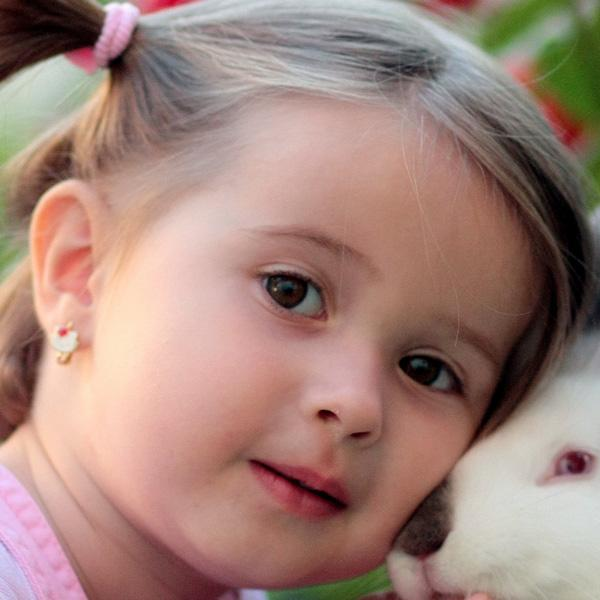Eyes: (240, 251, 334, 328), (387, 342, 471, 406)
